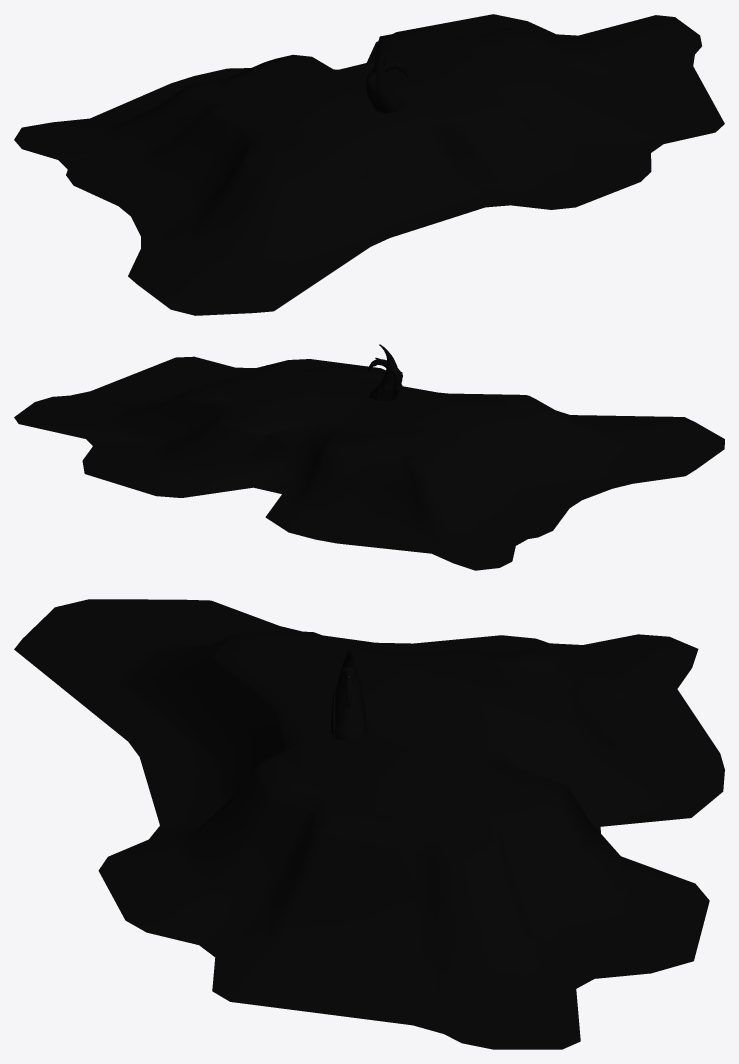
Rendered from Environment2.fbx.
The picture shows the model from 3 angles, top to bottom: view 1: azimuth 30°, elevation 25°; view 2: azimuth 150°, elevation 25°; view 3: azimuth 270°, elevation 25°; orthographic projection. The views are drawn at different scales.
Parts seen in each view (by area): view 1: Island, SpikeDetail, SpikeCurl; view 2: Island, SpikeDetail, SpikeCurl; view 3: Island, SpikeDetail.
Part boxes in pixels (x1,y1,x2,y2): Island: [14, 14, 724, 315]; SpikeDetail: [372, 45, 405, 112]; SpikeCurl: [366, 60, 407, 112]; Island: [14, 356, 724, 570]; SpikeDetail: [369, 345, 397, 400]; SpikeCurl: [367, 357, 402, 401]; Island: [14, 599, 724, 1049]; SpikeDetail: [330, 650, 367, 741].
Size of the model in its own units: 5760 by 959 by 3842.
